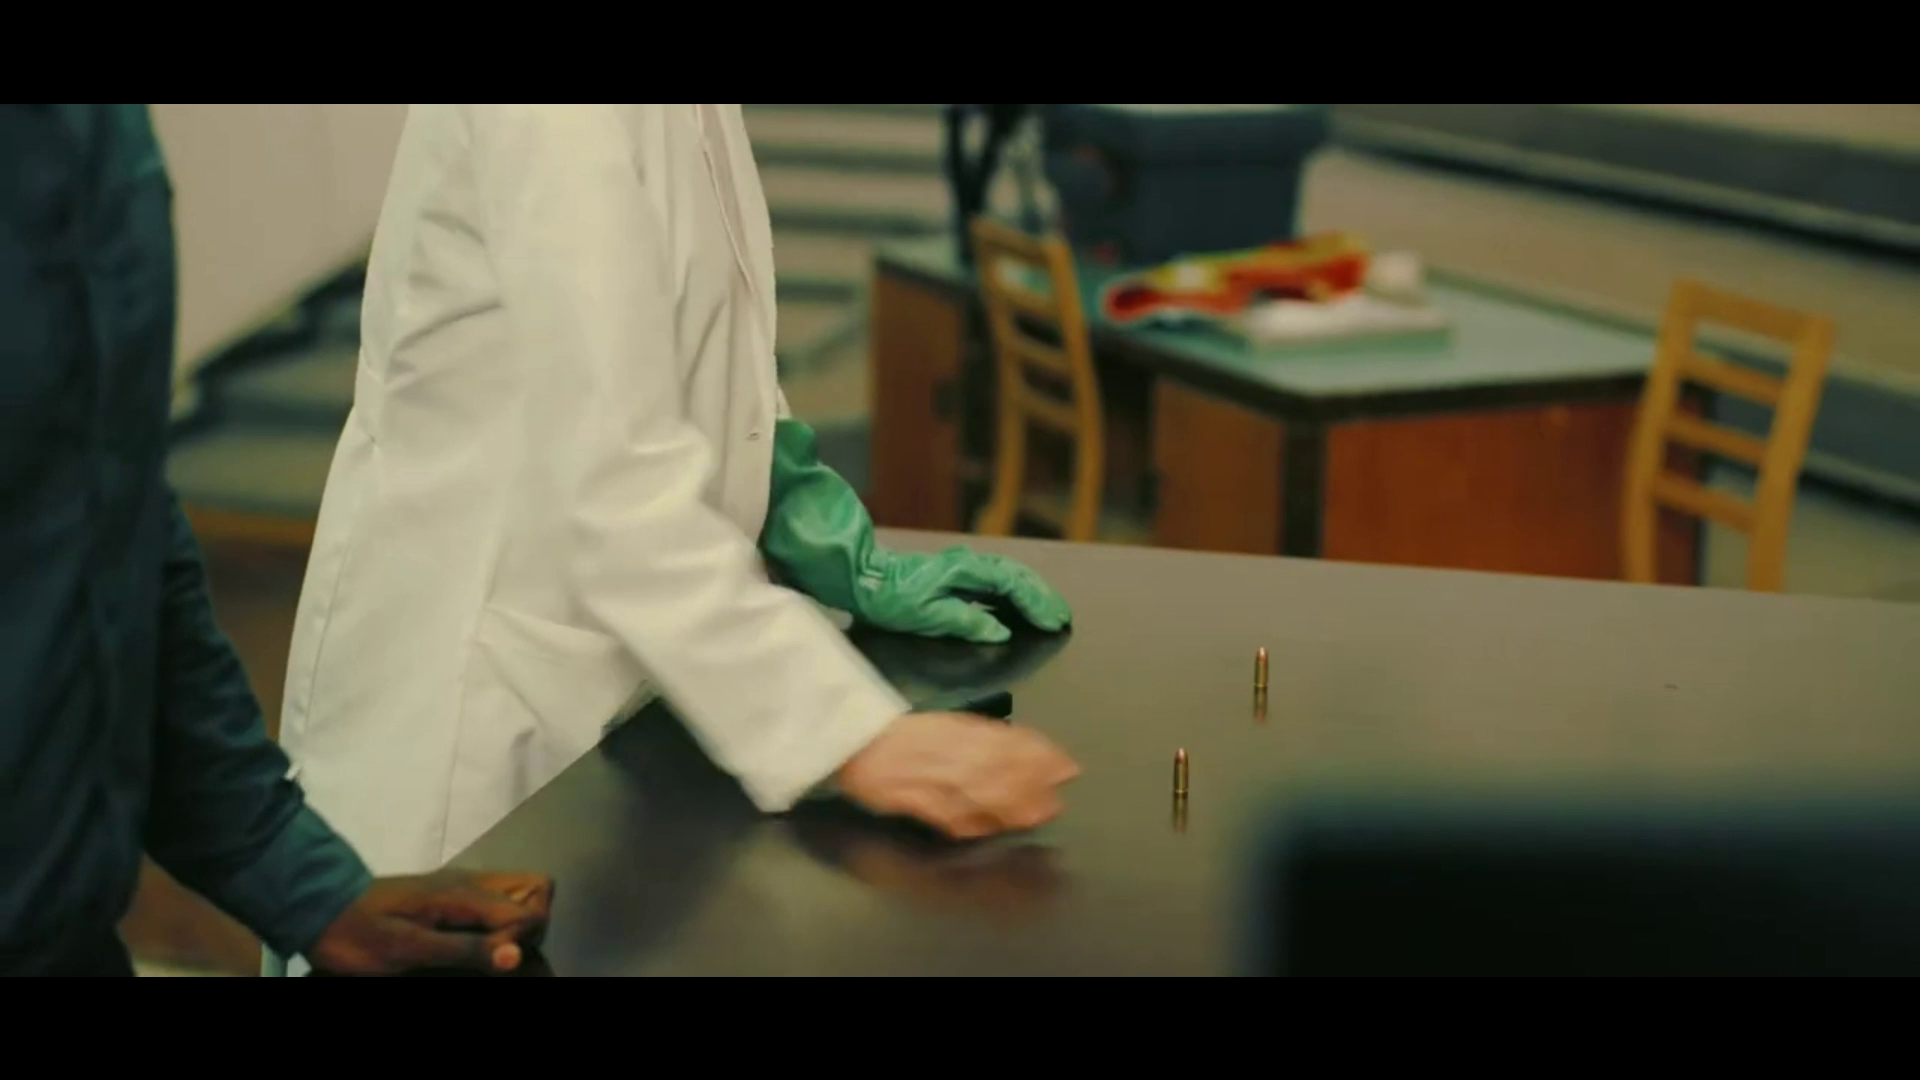Bullet: (1168, 744, 1191, 803), (1251, 647, 1269, 695)
